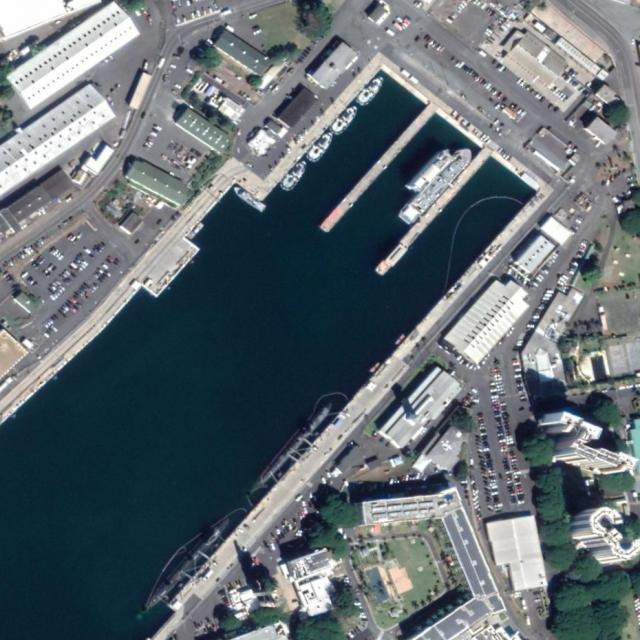Dock: (318, 103, 438, 235), (377, 147, 494, 275)
Hovercraft: (303, 128, 337, 164), (328, 102, 361, 138), (353, 73, 387, 107), (278, 158, 310, 192)
Other Ship: (397, 143, 476, 228)
Other Warship: (231, 184, 267, 215)
Submarine: (143, 518, 231, 611), (254, 405, 332, 490)
